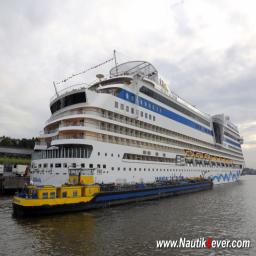cruises: (28, 53, 247, 209)
